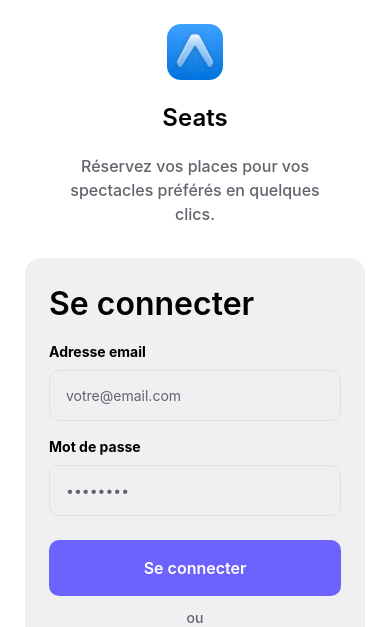
Test: LoginScreen › affiche clairement qu'un compte suspendu ne peut plus se connecter (#41)
Step 1. Type "suspendu@exemple.com" into the field with placeholder "votre@email.com" → [195, 396], box x1=49 y1=370 x2=341 y2=421
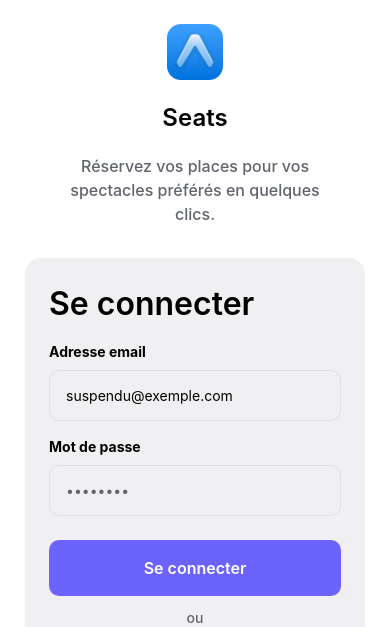
Step 2. Type "secret" into the password field with placeholder "••••••••" → [195, 490], box x1=49 y1=465 x2=341 y2=516
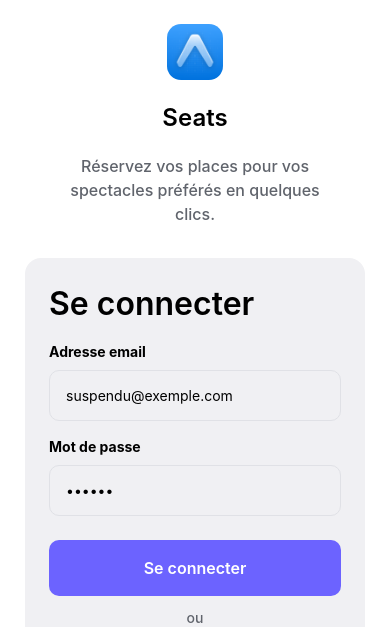
Step 3. Click the 2nd text "Se connecter" → [195, 568], box x1=144 y1=556 x2=246 y2=580
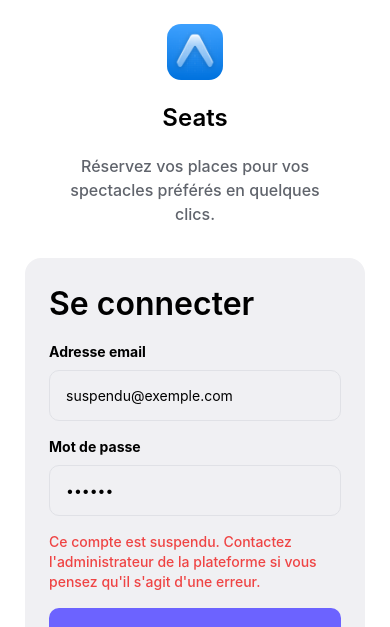
Now the text "Ce compte est suspendu. Contactez l'administrateur de la plateforme si vous pensez qu'il s'agit d'une erreur." is shown, box x1=49 y1=533 x2=320 y2=590
